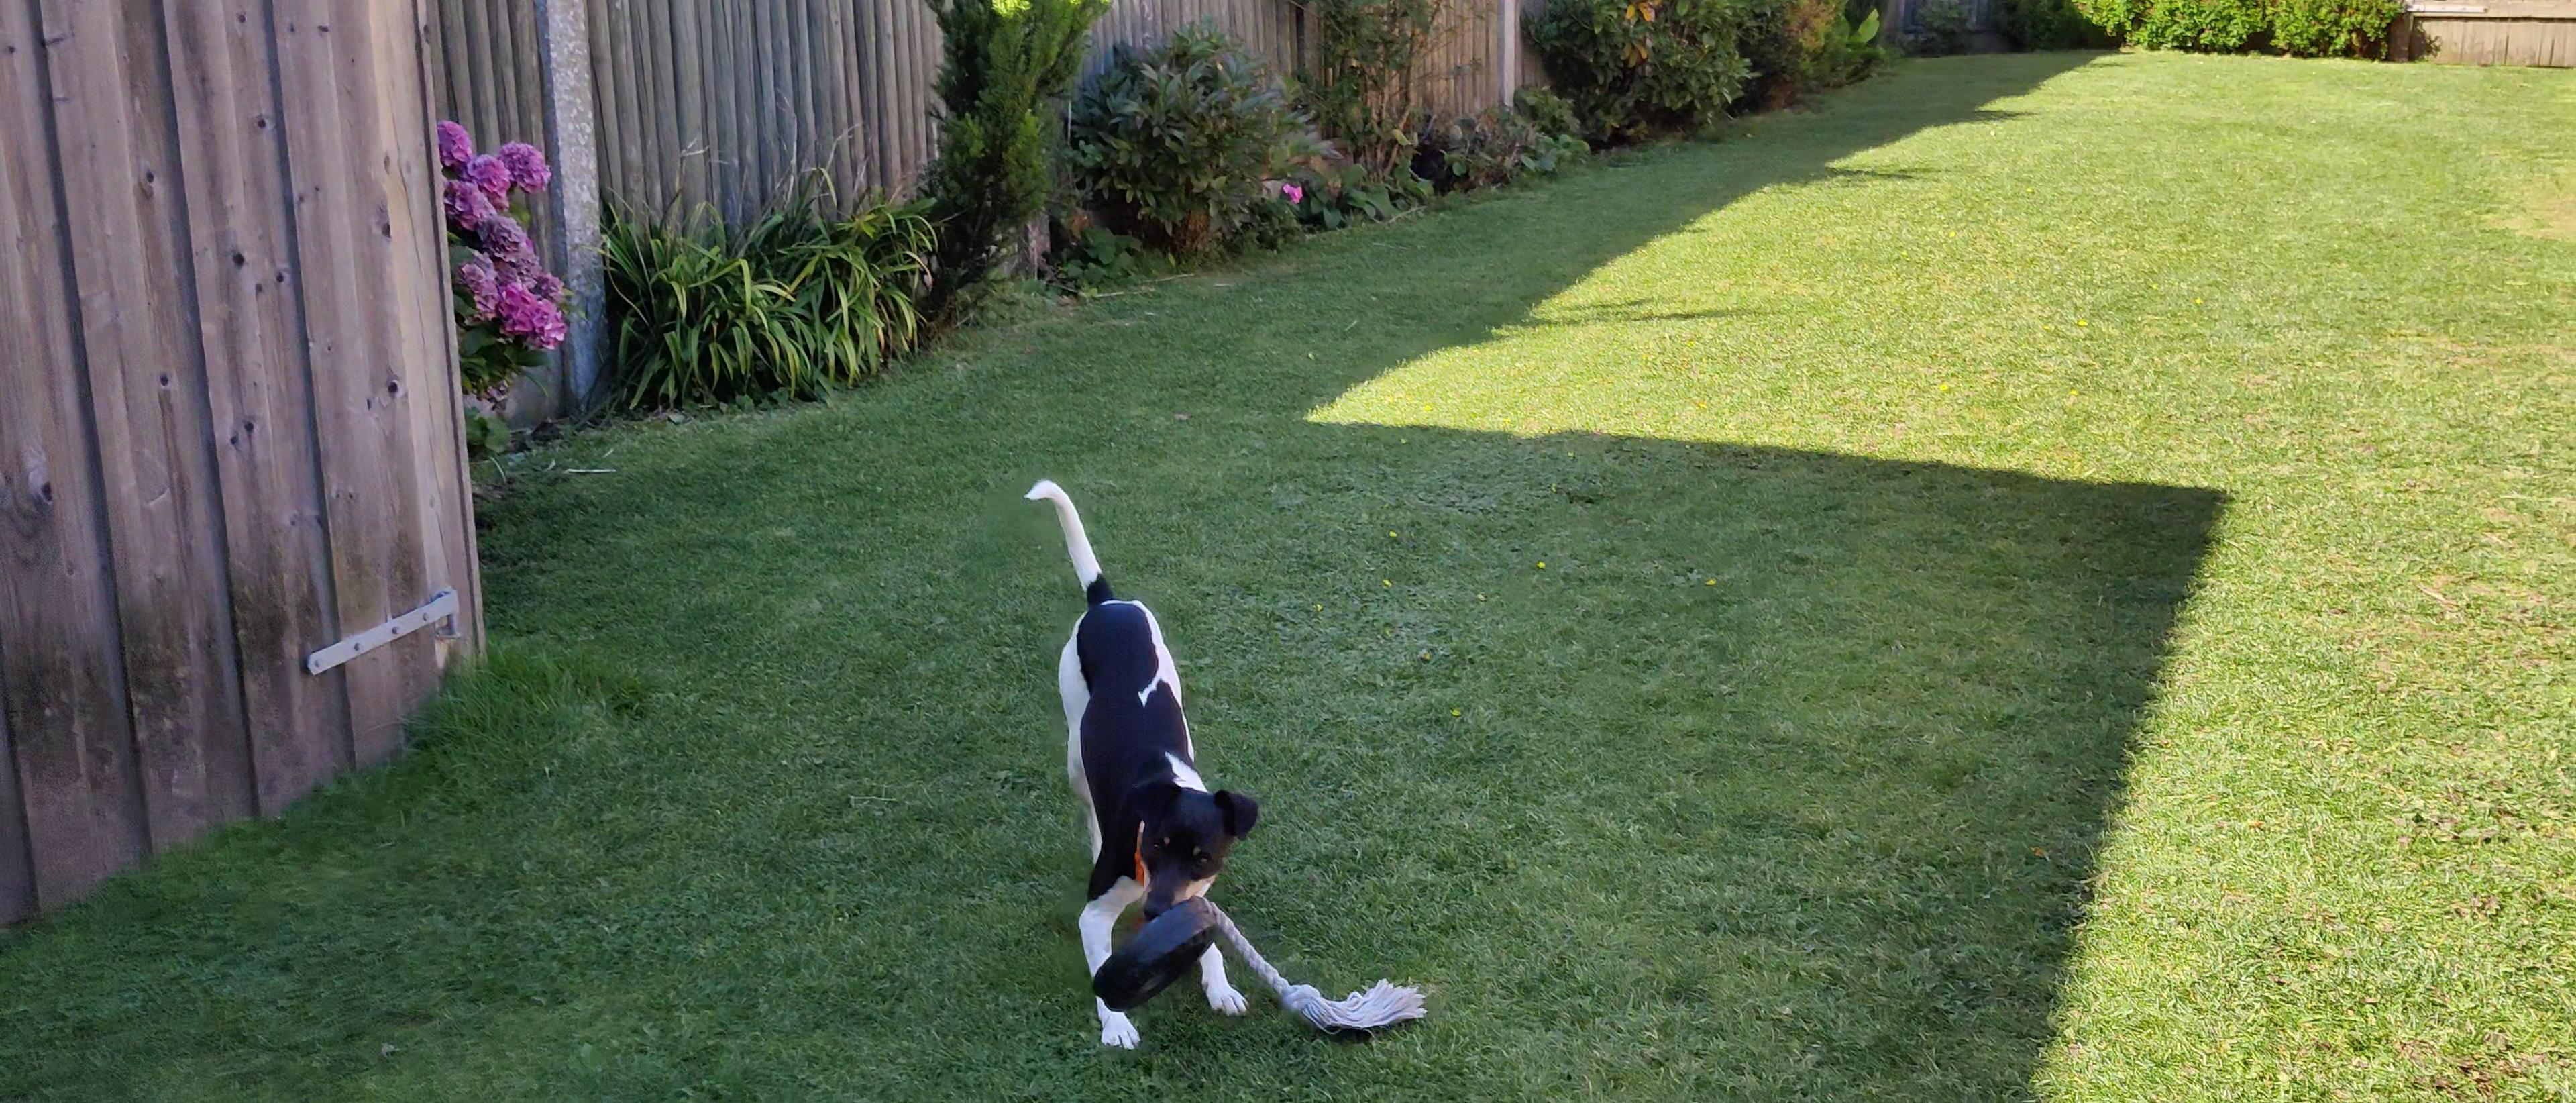Dog: (1014, 467, 1270, 1055)
